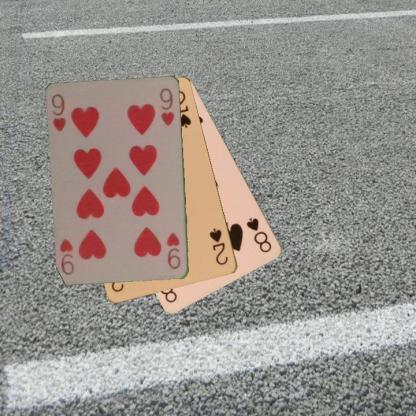2s: (207, 226, 229, 267)
8s: (244, 215, 273, 254)
9h: (49, 92, 68, 134), (164, 230, 182, 270)
